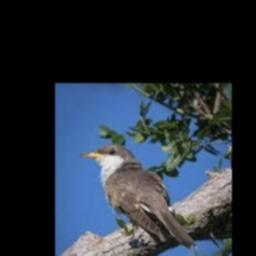Cuckoo: (81, 145, 199, 249)
